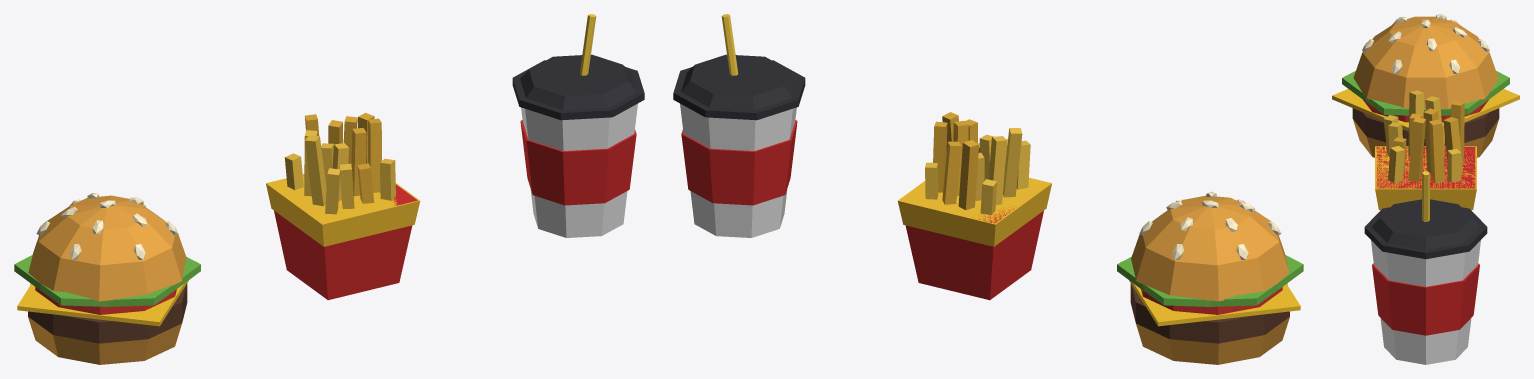
File: fastfood.fbx
3 renders of one model, left to right at view 1: azimuth 30°, elevation 25°; view 2: azimuth 150°, elevation 25°; view 3: azimuth 270°, elevation 25°, orthographic. The views are drawn at different scales.
Parts seen in each view (by area): view 1: LP_Burger, LP_Fries, LP_SodaCup; view 2: LP_Burger, LP_Fries, LP_SodaCup; view 3: LP_SodaCup, LP_Burger, LP_Fries.
Boxes of the visible parts, <box> form: LP_Burger: <box>14,193,200,364</box>; LP_Fries: <box>266,113,420,300</box>; LP_SodaCup: <box>512,14,644,237</box>; LP_Burger: <box>1117,191,1303,364</box>; LP_Fries: <box>897,112,1051,300</box>; LP_SodaCup: <box>673,14,805,237</box>; LP_SodaCup: <box>1364,171,1487,364</box>; LP_Burger: <box>1332,14,1519,157</box>; LP_Fries: <box>1375,90,1476,210</box>.
Bounding box in the file's own units: 922 × 285 × 269.
